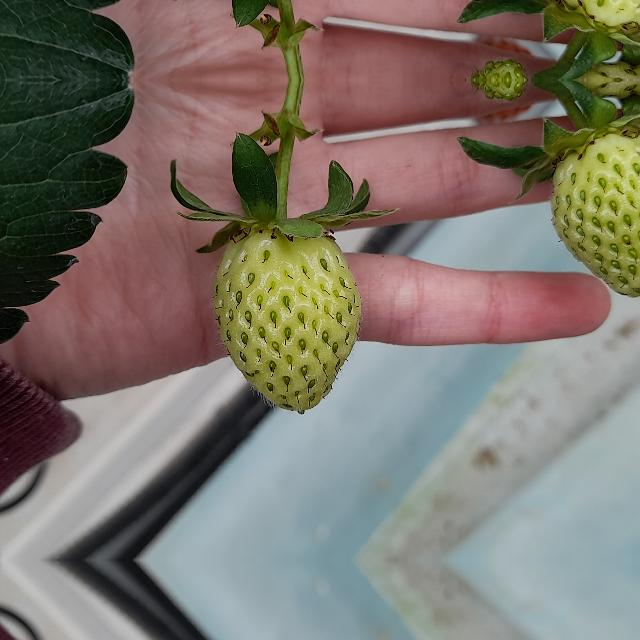Health_25: (212, 228, 361, 414), (547, 121, 639, 289), (547, 0, 639, 39)
